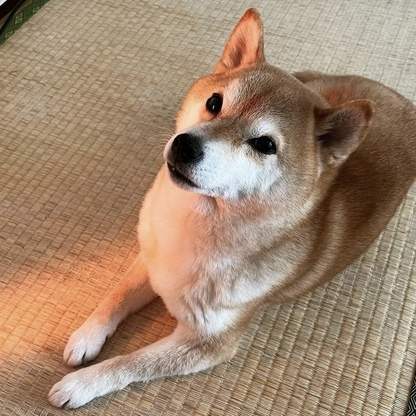shiba: (44, 3, 416, 413)
